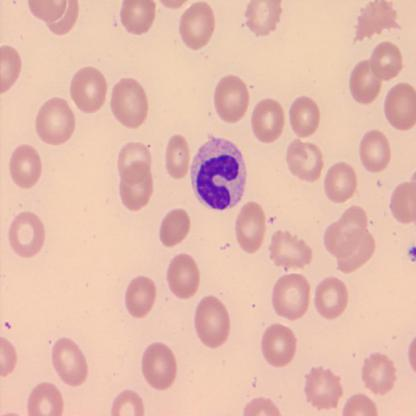Band Neutrophil: (188, 133, 249, 213)
